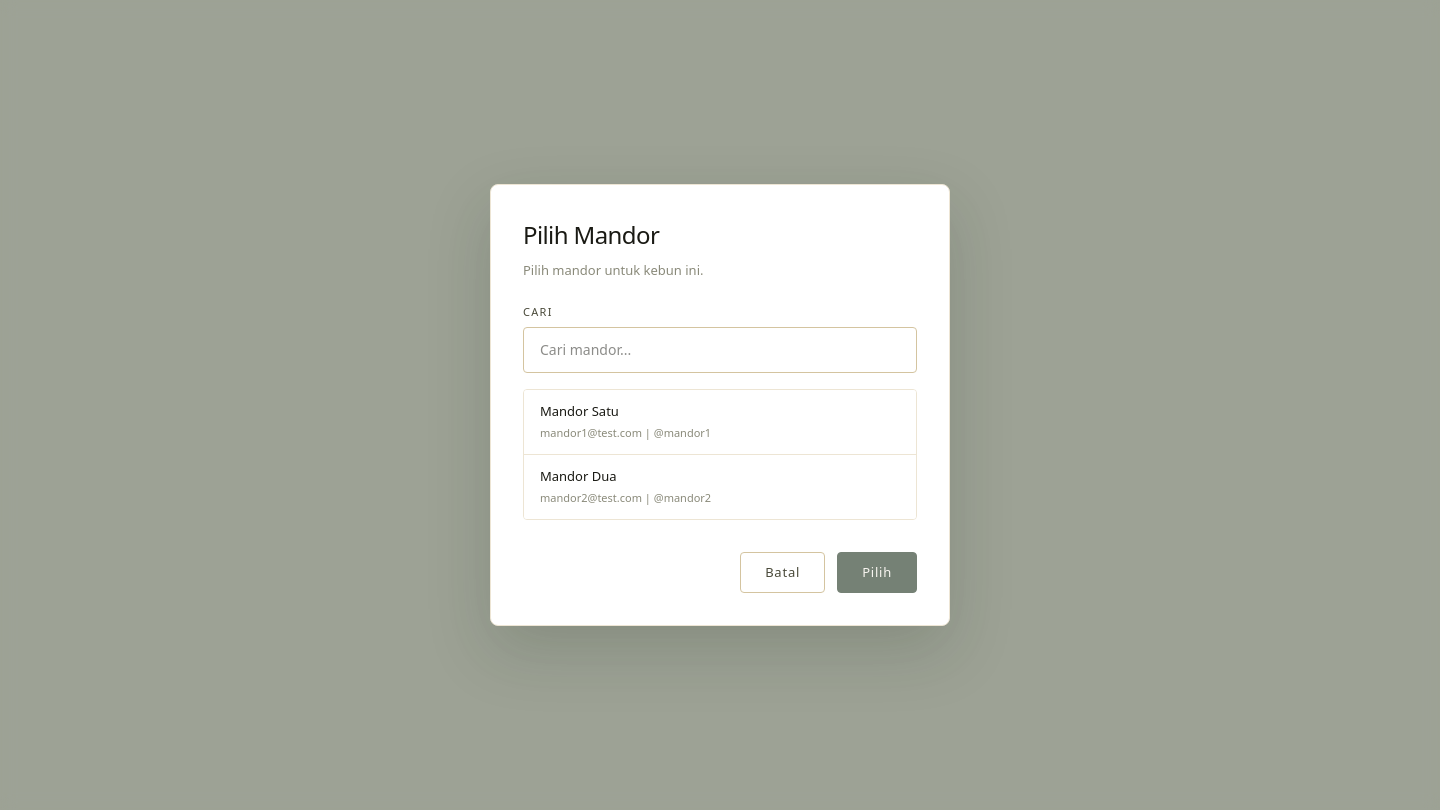
Scenario: KebunSelectionModal › filters options by search text
Expected: the button "Mandor Satu mandor1@test.com | @mandor1" is shown, [524,390,916,455]
Expected: the button "Mandor Dua mandor2@test.com | @mandor2" is shown, [524,455,916,519]
Type "dua" into the field.
click(720, 350); type("dua")  # box [523,327,917,373]
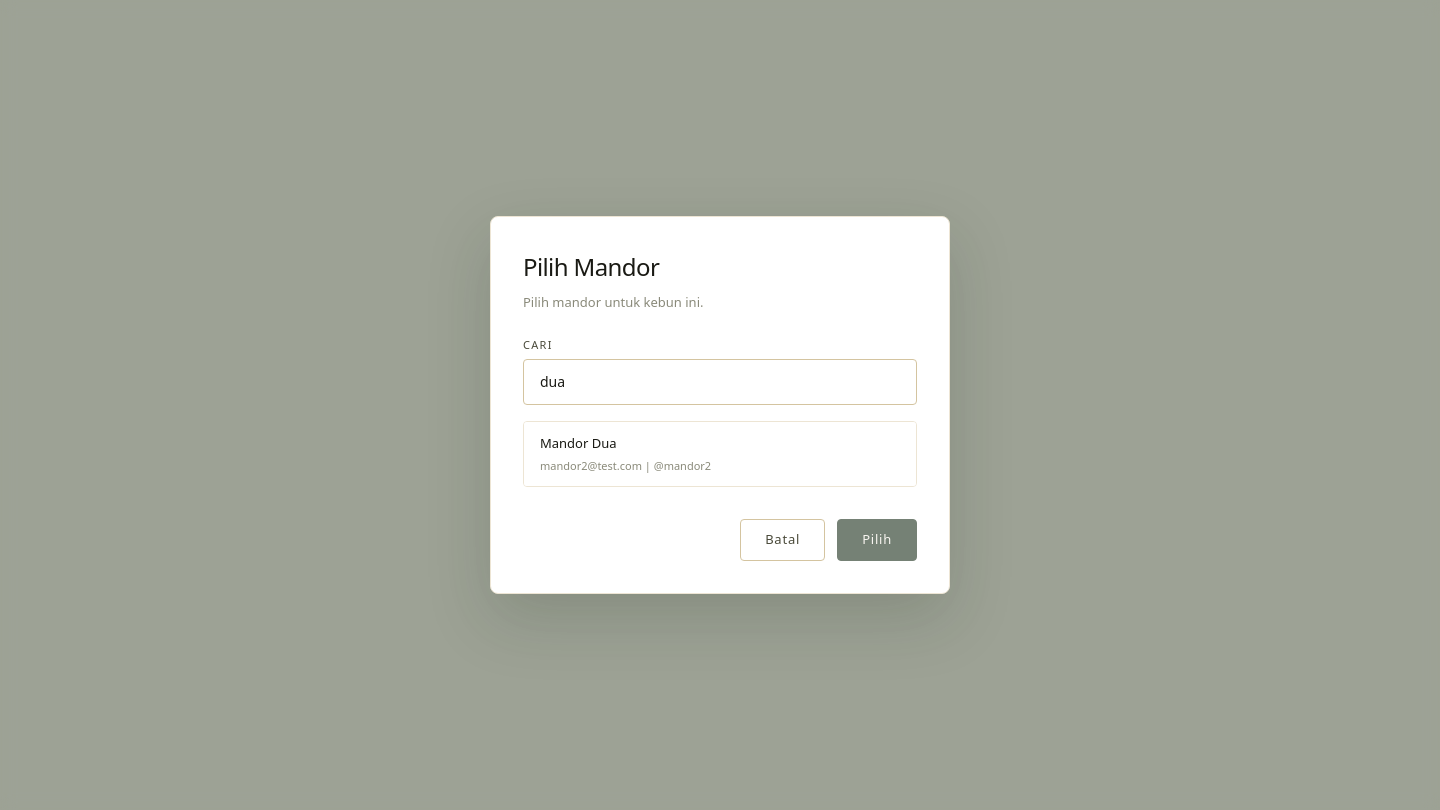
Expected: the button "Mandor Dua mandor2@test.com | @mandor2" is shown, [524,422,916,486]
Result: the button "Mandor Satu" is gone
